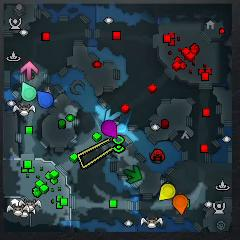p1: (36, 91, 54, 108)
p2: (21, 82, 37, 102)
p3: (101, 120, 118, 139)
p4: (159, 183, 176, 200)
p5: (173, 195, 188, 214)
x1: (20, 61, 39, 81)
x3: (105, 109, 121, 126)
x4: (125, 165, 142, 183)
